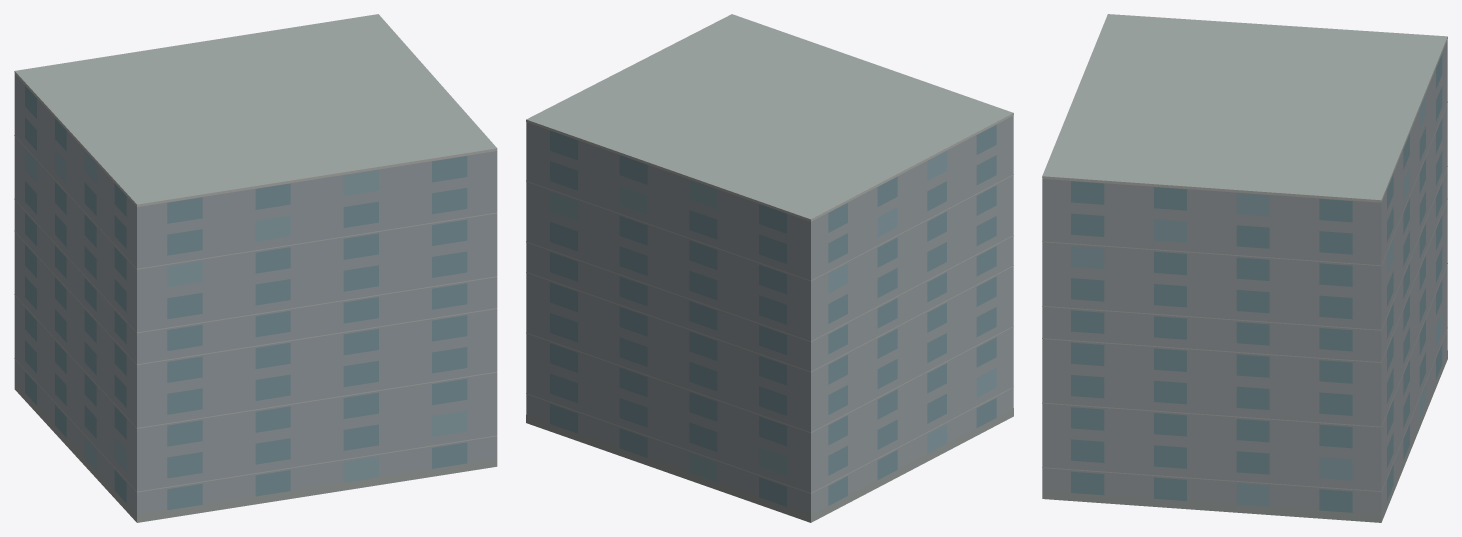
File: survey-upis-32789843.glb
The picture shows the model from 3 angles, left to right: view 1: azimuth 30°, elevation 25°; view 2: azimuth 150°, elevation 25°; view 3: azimuth 270°, elevation 25°; orthographic projection. The views are drawn at different scales.
Visible parts, largest first — view 1: survey-upis-32789843.tmp; view 2: survey-upis-32789843.tmp; view 3: survey-upis-32789843.tmp.
Boxes of the visible parts, box(x1,y1,x2,y2) form: survey-upis-32789843.tmp: box(14, 14, 497, 522); survey-upis-32789843.tmp: box(526, 14, 1013, 522); survey-upis-32789843.tmp: box(1042, 14, 1447, 522).
Size of the model in its own units: 37.77 by 30.5 by 34.77.
